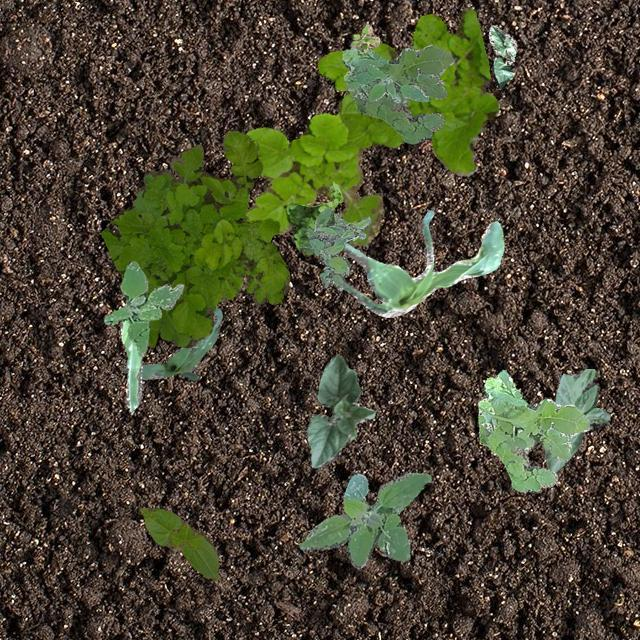crop: (341, 210, 503, 316), (306, 352, 374, 467), (122, 306, 222, 378), (544, 368, 608, 472), (140, 506, 220, 580), (120, 318, 142, 410), (488, 24, 516, 86)
weed: (242, 6, 498, 244), (100, 130, 288, 346), (476, 368, 592, 492), (298, 472, 431, 568), (342, 44, 456, 142), (102, 260, 182, 356), (300, 206, 370, 290), (282, 182, 358, 254), (346, 64, 428, 102), (349, 24, 378, 52)
